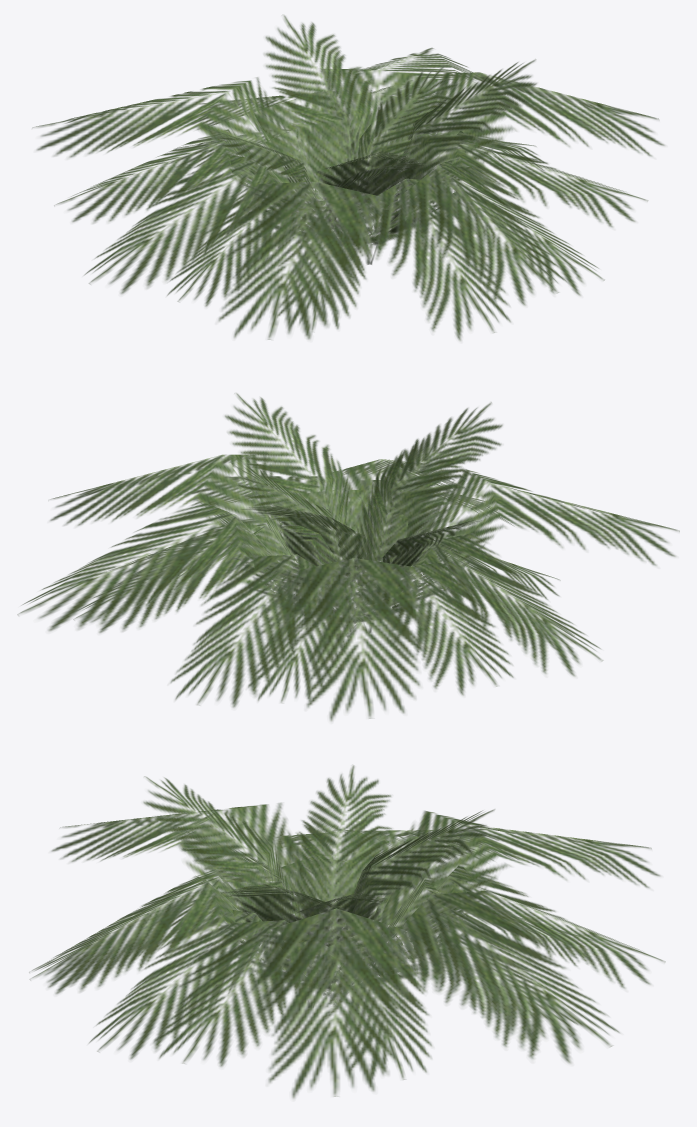
Rendered from mbushtro_0.glb.
The picture shows the model from 3 angles, top to bottom: view 1: azimuth 30°, elevation 25°; view 2: azimuth 150°, elevation 25°; view 3: azimuth 270°, elevation 25°; orthographic projection. The views are drawn at different scales.
Visible parts, largest first — view 1: mbushtro_0; view 2: mbushtro_0; view 3: mbushtro_0.
Boxes of the visible parts, <box> form: mbushtro_0: <box>32,14,665,341</box>; mbushtro_0: <box>17,393,679,722</box>; mbushtro_0: <box>29,765,665,1099</box>.
Bounding box in the file's own units: 7.07 × 2.42 × 6.74.
1 material, 1 textured.
